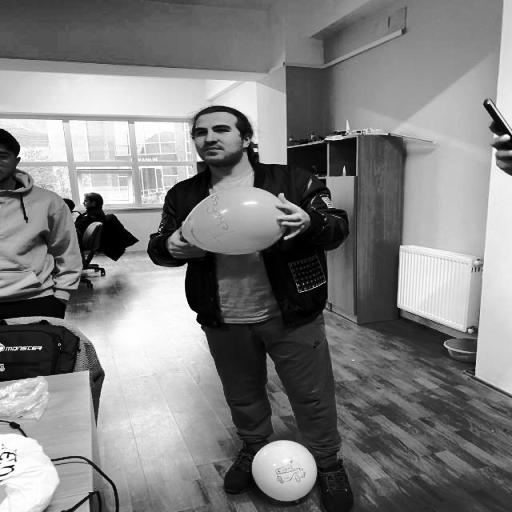balloon: (182, 184, 292, 258), (252, 442, 319, 502)
